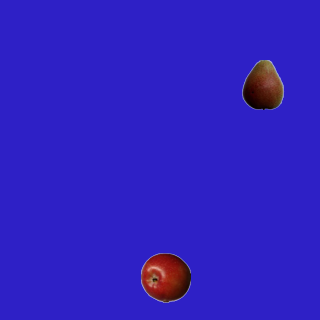Apple Braeburn: (140, 252, 190, 302)
Pear Forelle: (237, 59, 287, 109)
